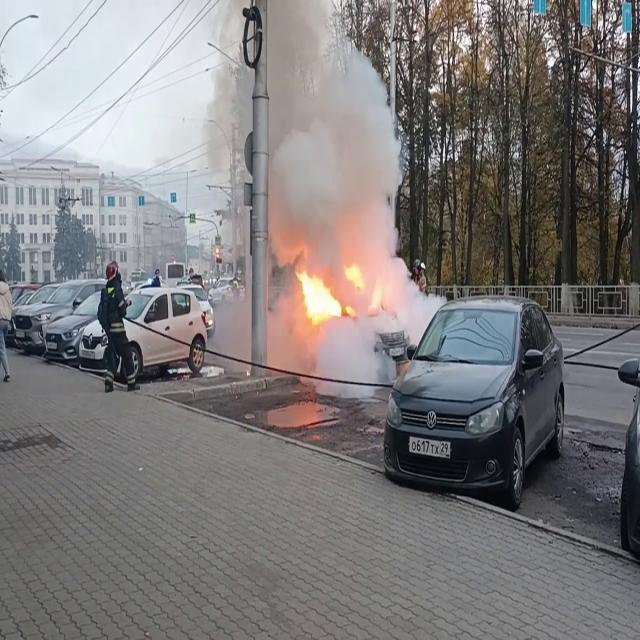Fire: (294, 253, 402, 325)
Smoke: (266, 2, 408, 258)
